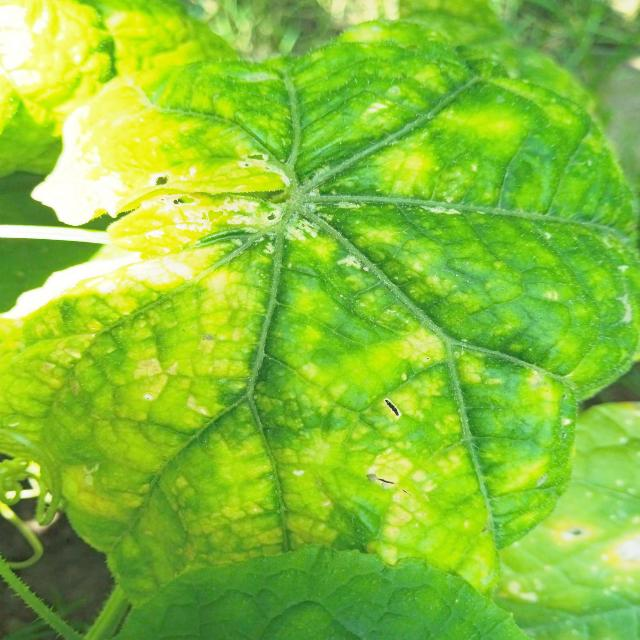Anthracnose: (145, 147, 302, 250)
